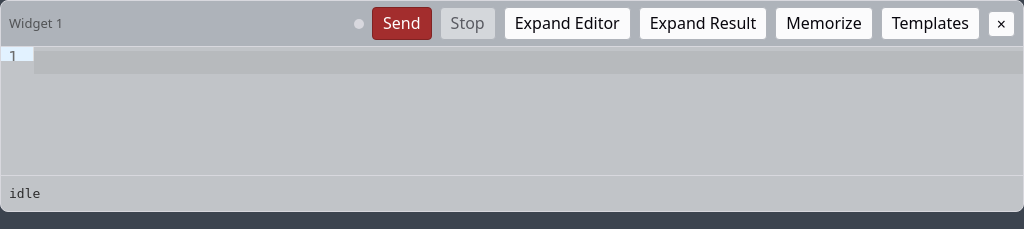
it: Widget › disables send and enables stop while an injection is in flight
The width and height of the screenshot is (1024, 229).
Click the button "Send": (402, 24) [372,7,432,40]
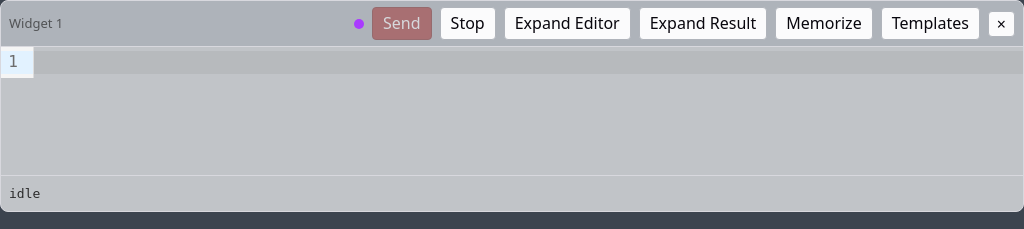
Expected: the button "Send" is disabled, [372,7,432,40]
Expected: the button "Stop" is enabled, [440,7,496,40]
